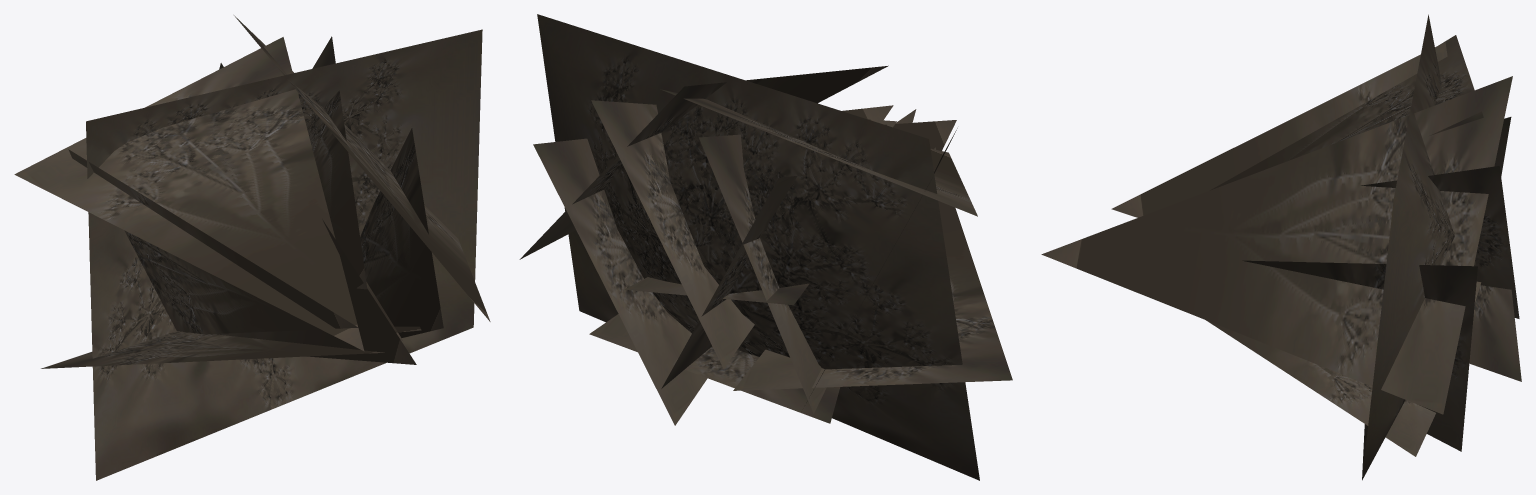
The model's file is WGP_01_a.fbx.
The picture shows the model from 3 angles, left to right: view 1: azimuth 30°, elevation 25°; view 2: azimuth 150°, elevation 25°; view 3: azimuth 270°, elevation 25°; orthographic projection. The views are drawn at different scales.
Visible parts, largest first — view 1: WGP_01_a; view 2: WGP_01_a; view 3: WGP_01_a.
Part boxes in pixels (<box>): WGP_01_a: <box>14,15,490,480</box>; WGP_01_a: <box>519,14,1012,480</box>; WGP_01_a: <box>1041,14,1521,480</box>.
Bounding box in the file's own units: 5.65 × 4.47 × 5.05.
